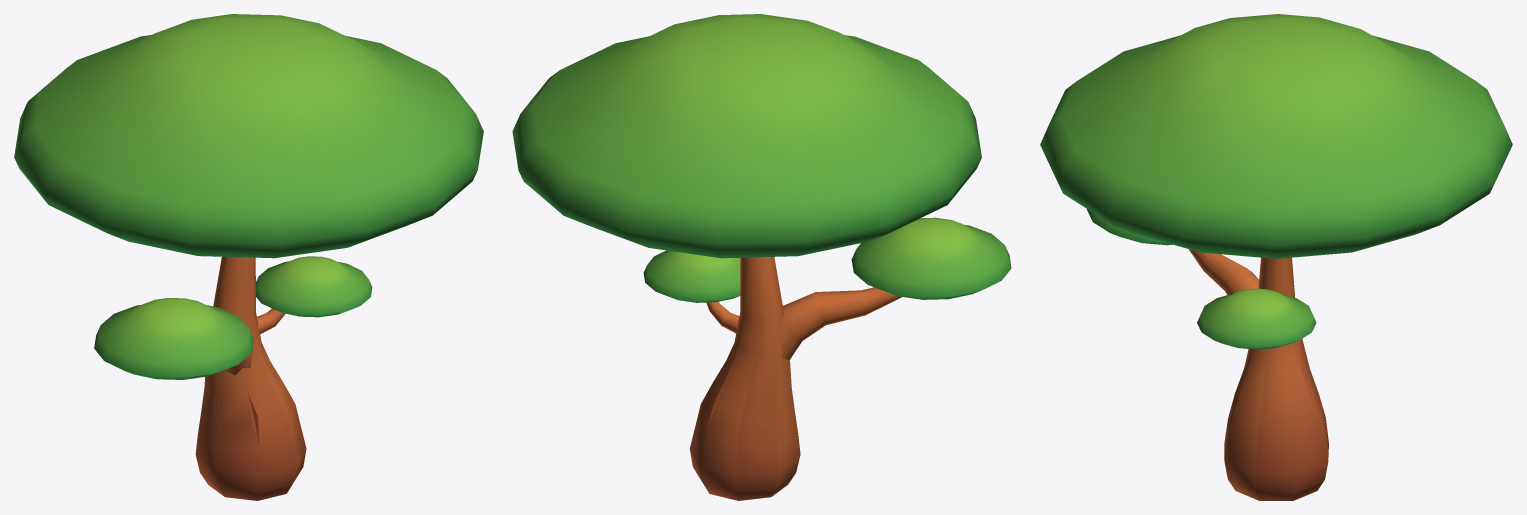
File: Tree_3_B.glb
3 views of the same model, side by side, from view 1: azimuth 30°, elevation 25°; view 2: azimuth 150°, elevation 25°; view 3: azimuth 270°, elevation 25° (orthographic).
Parts seen in each view (by area): view 1: Tree_3_B_Color1; view 2: Tree_3_B_Color1; view 3: Tree_3_B_Color1.
Part boxes in pixels (left/top/right/bottom): Tree_3_B_Color1: left=14, top=14, right=483, bottom=500; Tree_3_B_Color1: left=512, top=14, right=1011, bottom=500; Tree_3_B_Color1: left=1040, top=14, right=1512, bottom=500.
Bounding box in the file's own units: 4.13 × 4.35 × 4.13.
Materials: 1 (1 with a texture image).
